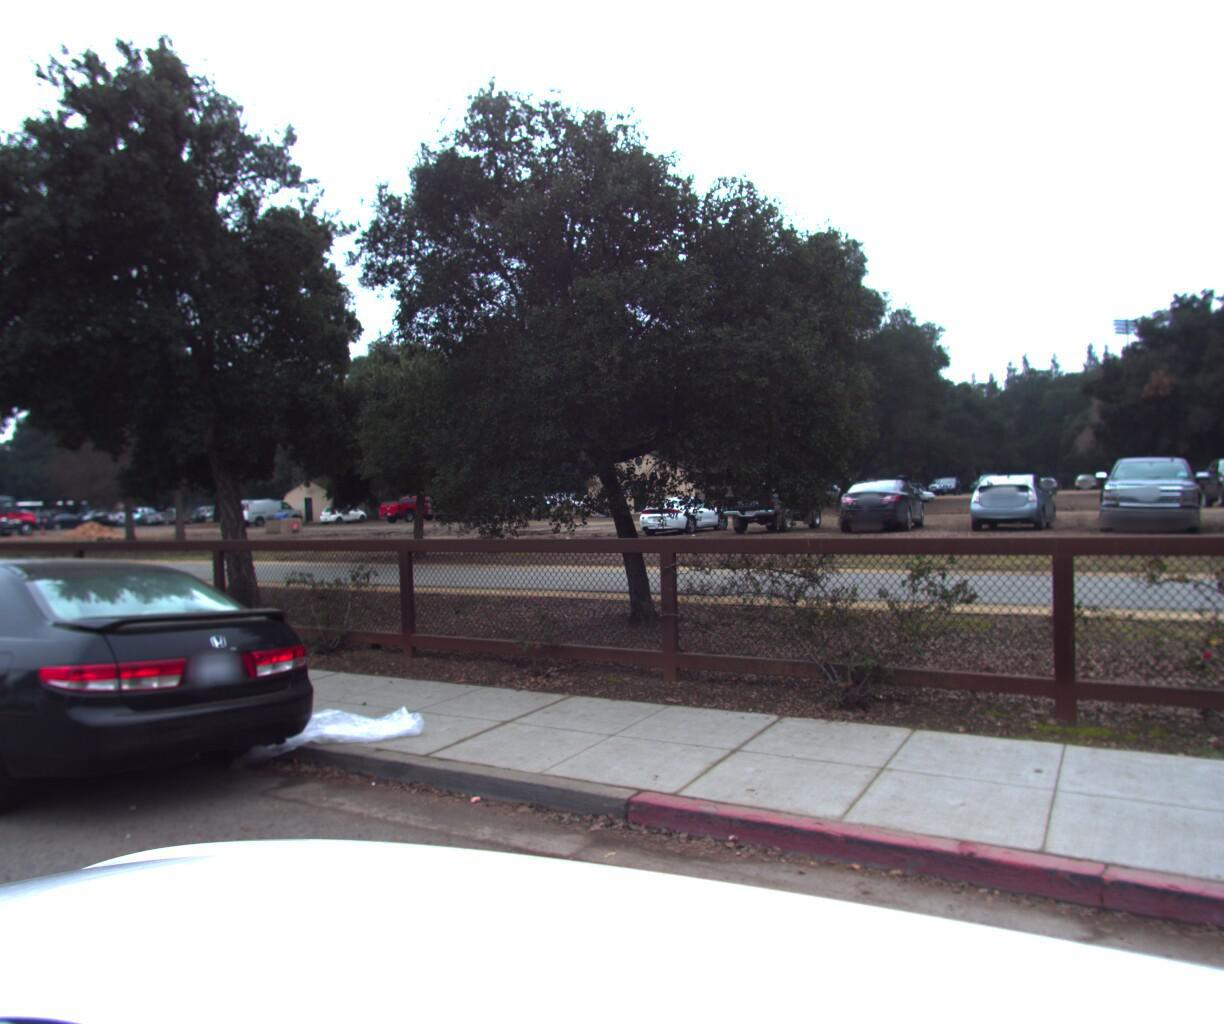car: (0, 545, 340, 863)
